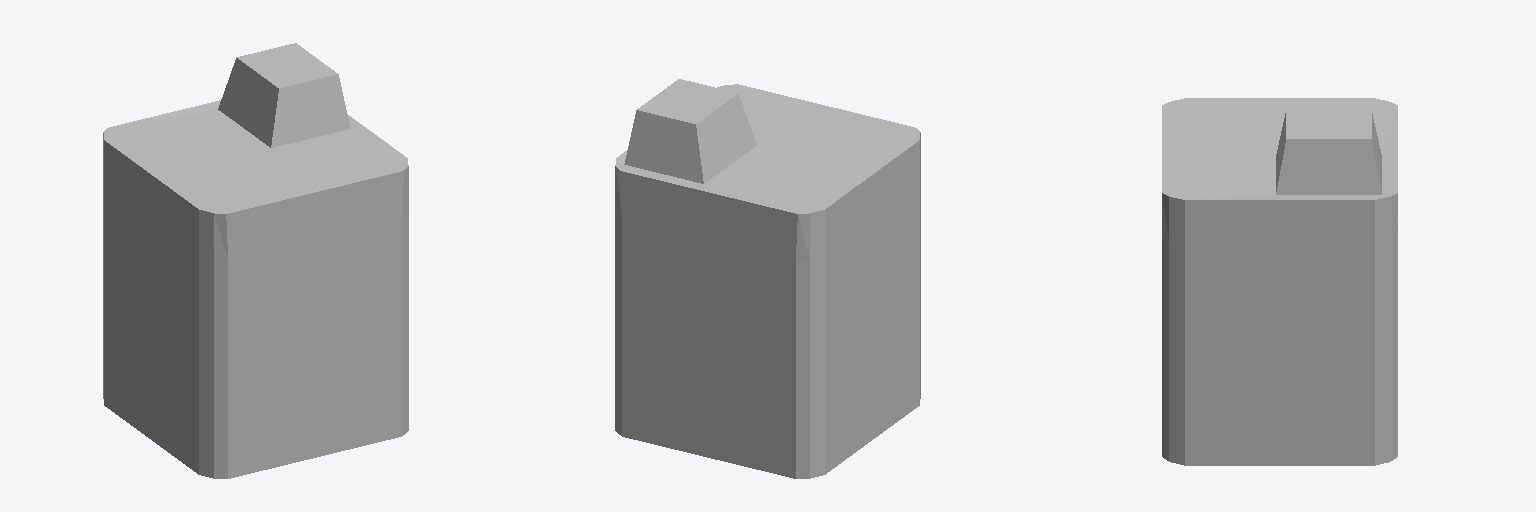
File: building_2.obj
3 views of the same model, side by side, from view 1: azimuth 30°, elevation 25°; view 2: azimuth 150°, elevation 25°; view 3: azimuth 270°, elevation 25° (orthographic).
Parts seen in each view (by area): view 1: Building_2_Cube.001; view 2: Building_2_Cube.001; view 3: Building_2_Cube.001.
Part boxes in pixels (x1,y1,x2,y2): Building_2_Cube.001: (103,43,408,478); Building_2_Cube.001: (615,79,920,478); Building_2_Cube.001: (1162,98,1397,465).
Size of the model in its own units: 9.46 by 13.72 by 9.26.